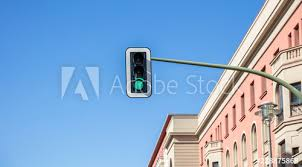green: (123, 44, 154, 101), (128, 50, 149, 95), (132, 53, 144, 91)
